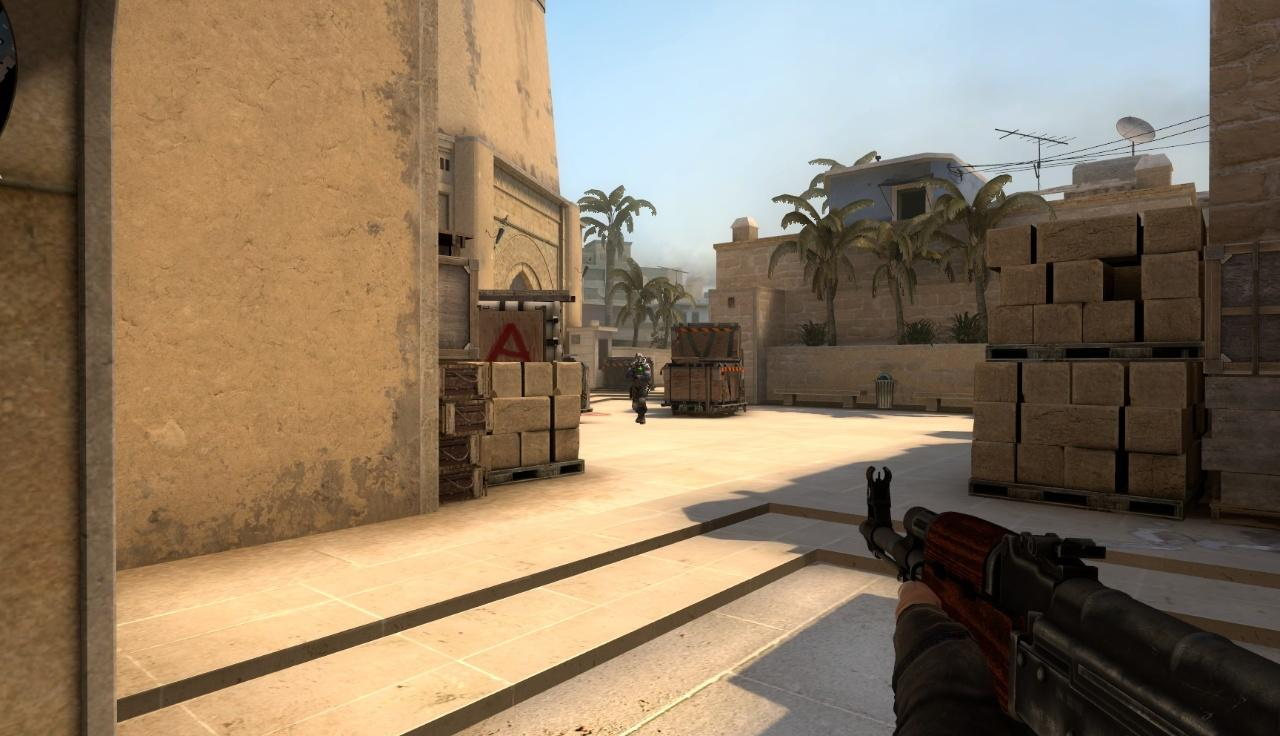ct: (626, 353, 651, 425)
cthead: (635, 353, 645, 365)
rifle: (860, 464, 1280, 736)
